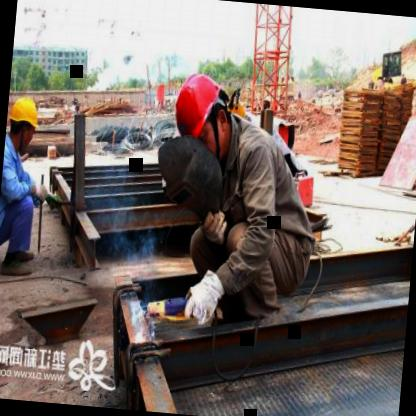helmet: (165, 66, 239, 156), (5, 89, 42, 156)
